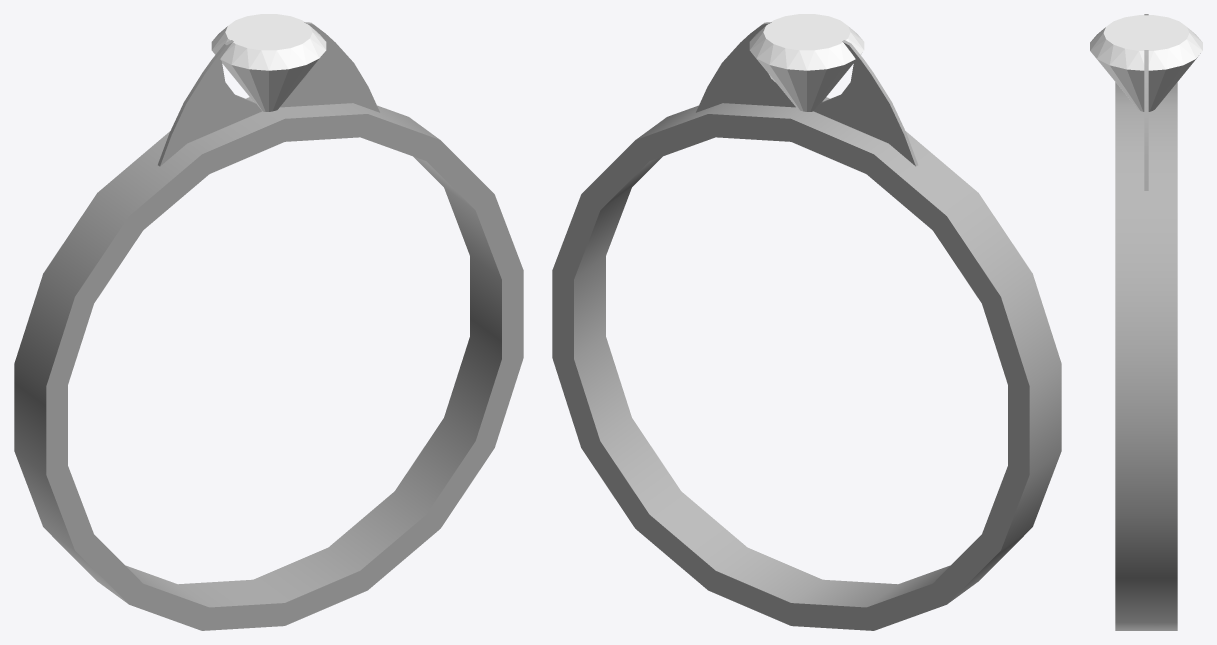
File: PlatinumSilverObject.DAE
3 renders of one model, left to right at view 1: azimuth 30°, elevation 25°; view 2: azimuth 150°, elevation 25°; view 3: azimuth 270°, elevation 25°, orthographic.
Parts seen in each view (by area): view 1: Tube001; view 2: Tube001; view 3: Tube001.
Part boxes in pixels (<box>): Tube001: <box>14,14,523,630</box>; Tube001: <box>552,14,1061,630</box>; Tube001: <box>1090,14,1202,630</box>.
Size of the model in its own units: 9.31 by 1.94 by 10.86.
Materials: 1 (1 with a texture image).
